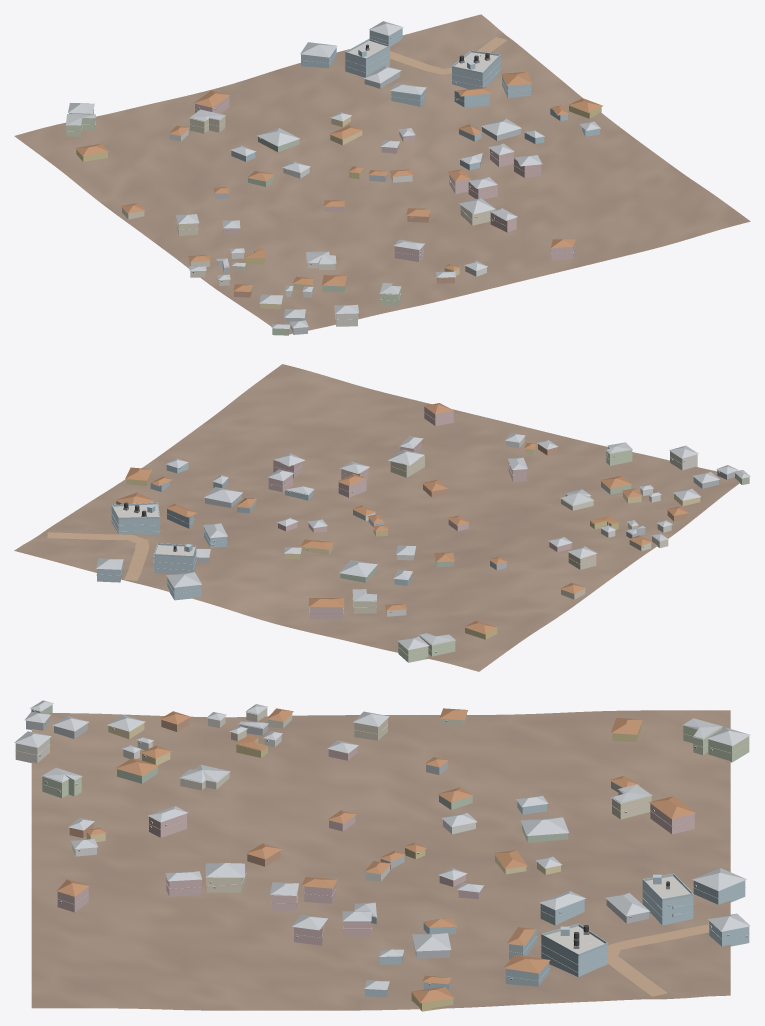
The picture shows the model from 3 angles, top to bottom: view 1: azimuth 30°, elevation 25°; view 2: azimuth 150°, elevation 25°; view 3: azimuth 270°, elevation 25°; orthographic projection. The views are drawn at different scales.
Parts seen in each view (by area): view 1: Terrain-col, Buildings-col, Details, Roads-col; view 2: Terrain-col, Buildings-col, Details, Roads-col; view 3: Terrain-col, Buildings-col, Details, Roads-col.
Boxes of the visible parts, x1,y1,x2,y2 form: Terrain-col: (14,14,750,335); Buildings-col: (66,21,602,335); Details: (66,33,582,329); Roads-col: (390,37,507,74); Terrain-col: (14,364,740,671); Buildings-col: (96,403,750,662); Details: (96,412,719,656); Roads-col: (47,532,148,580); Terrain-col: (31,710,730,1010); Buildings-col: (14,700,750,1011); Details: (15,710,749,985); Roads-col: (607,924,709,996).
Bounding box in the file's own units: 262 × 18.31 × 270.
